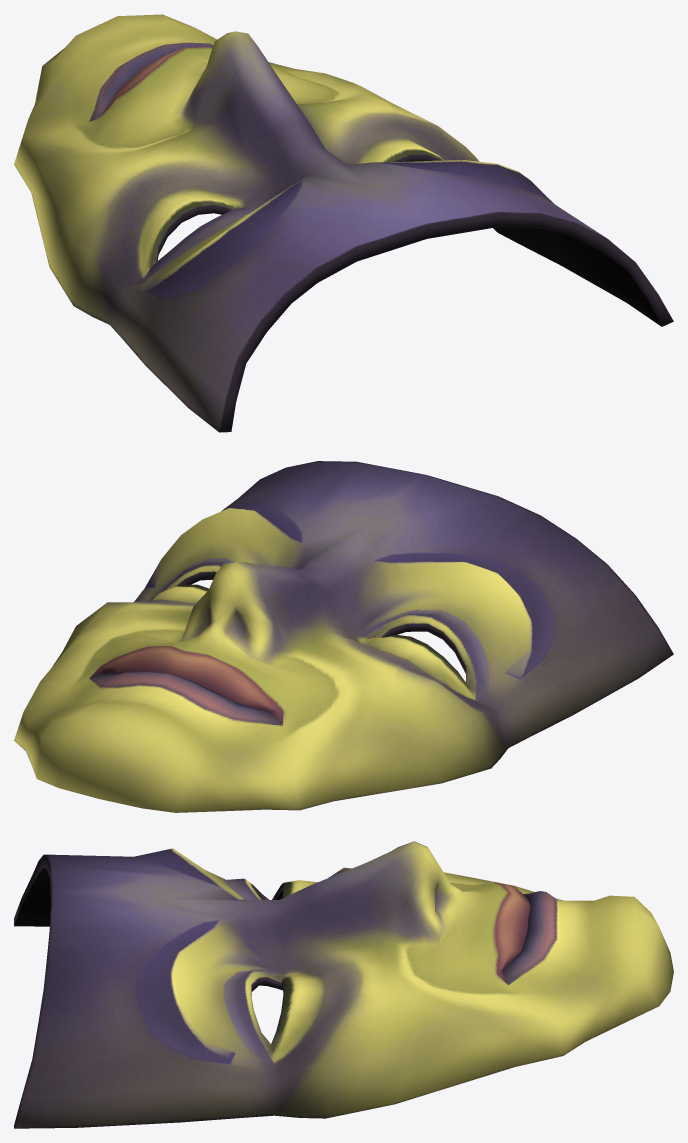
Rendered from anim1_000139.obj.
The picture shows the model from 3 angles, top to bottom: view 1: azimuth 30°, elevation 25°; view 2: azimuth 150°, elevation 25°; view 3: azimuth 270°, elevation 25°; orthographic projection. The views are drawn at different scales.
Visible parts, largest first — view 1: 151out; view 2: 151out; view 3: 151out.
Part boxes in pixels (x1,y1,x2,y2): 151out: [14, 14, 673, 432]; 151out: [14, 461, 673, 812]; 151out: [14, 841, 673, 1128].
Size of the model in its own units: 4.16 by 1.69 by 5.52.
